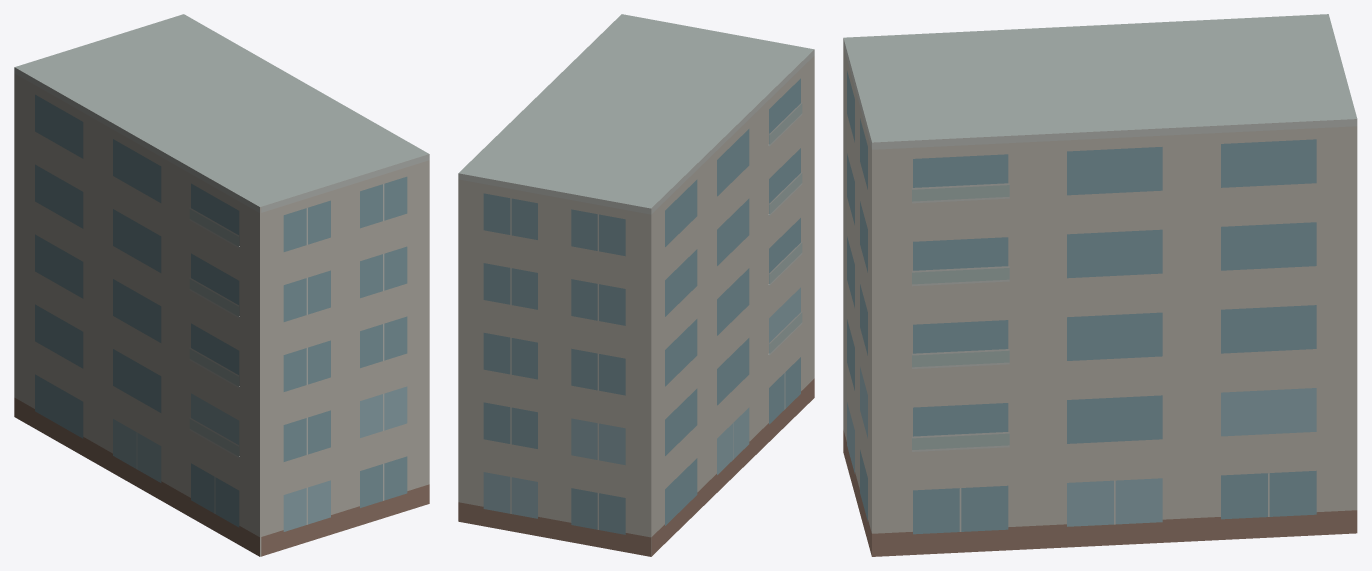
The model's file is survey-upis-32886865.glb.
The picture shows the model from 3 angles, left to right: view 1: azimuth 30°, elevation 25°; view 2: azimuth 150°, elevation 25°; view 3: azimuth 270°, elevation 25°; orthographic projection. The views are drawn at different scales.
Visible parts, largest first — view 1: survey-upis-32886865.tmp; view 2: survey-upis-32886865.tmp; view 3: survey-upis-32886865.tmp.
Part boxes in pixels (x1,y1,x2,y2): survey-upis-32886865.tmp: (14,14,429,556); survey-upis-32886865.tmp: (458,14,814,556); survey-upis-32886865.tmp: (843,14,1357,556).
Bounding box in the file's own units: 9.26 × 13.9 × 15.63.
